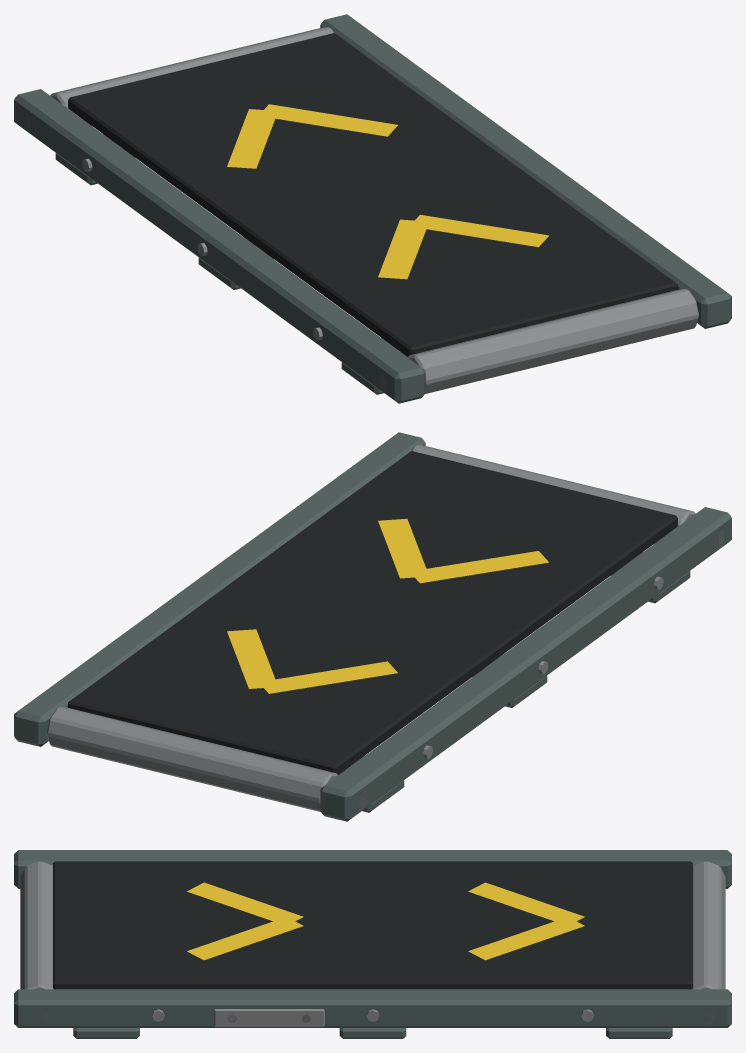
Rendered from belt.glb.
The picture shows the model from 3 angles, top to bottom: view 1: azimuth 30°, elevation 25°; view 2: azimuth 150°, elevation 25°; view 3: azimuth 270°, elevation 25°; orthographic projection. The views are drawn at different scales.
Parts seen in each view (by area): view 1: belt; view 2: belt; view 3: belt.
Boxes of the visible parts, box(x1,y1,x2,y2) form: belt: box(14, 14, 731, 403); belt: box(14, 432, 731, 821); belt: box(14, 850, 731, 1038).
Size of the model in its own units: 1 by 0.1401 by 1.94.
